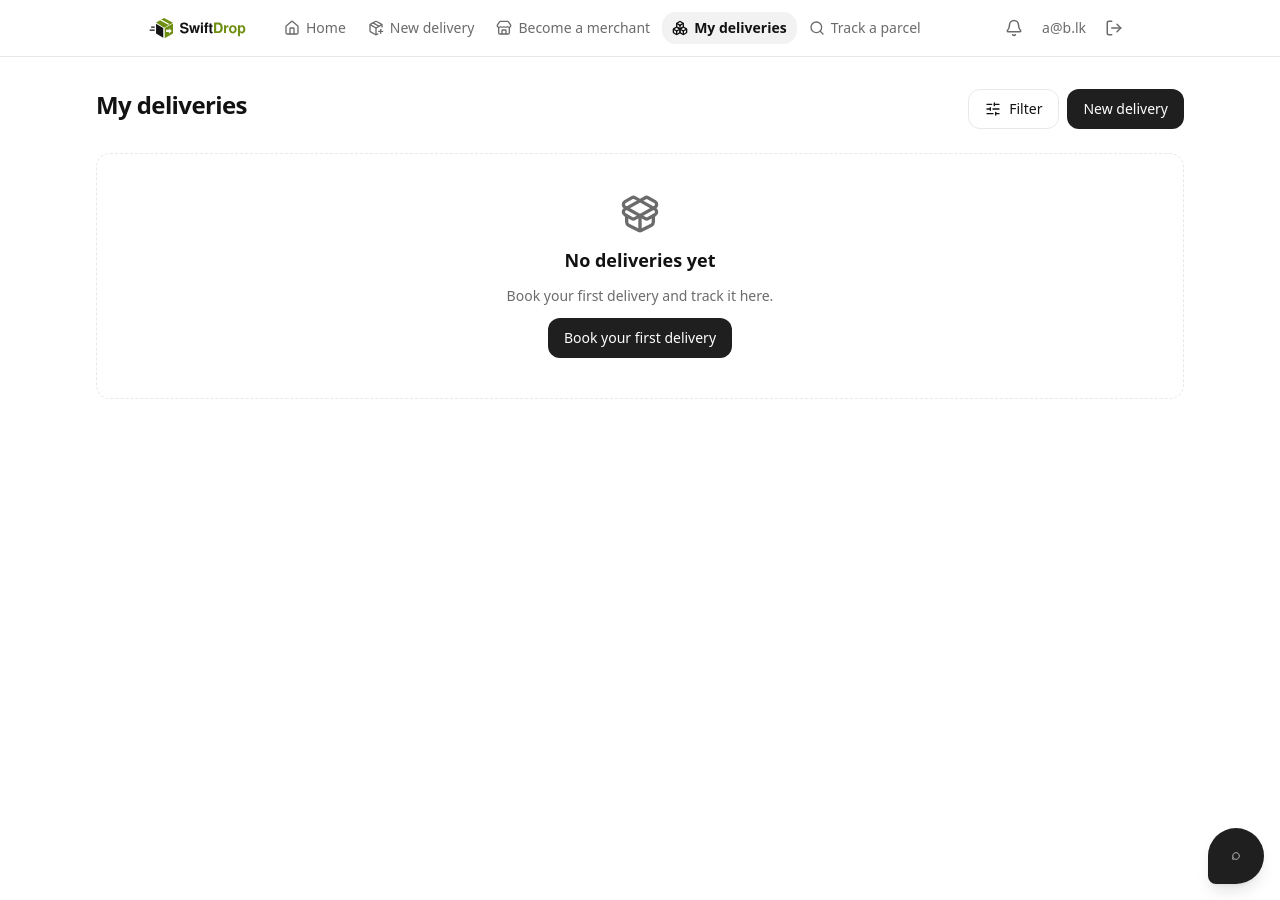
Test case: assistant widget › tells the user about the hourly limit on 429
The image size is (1280, 900).
Click the button named "Open assistant": (1236, 856) [1208,828,1264,884]
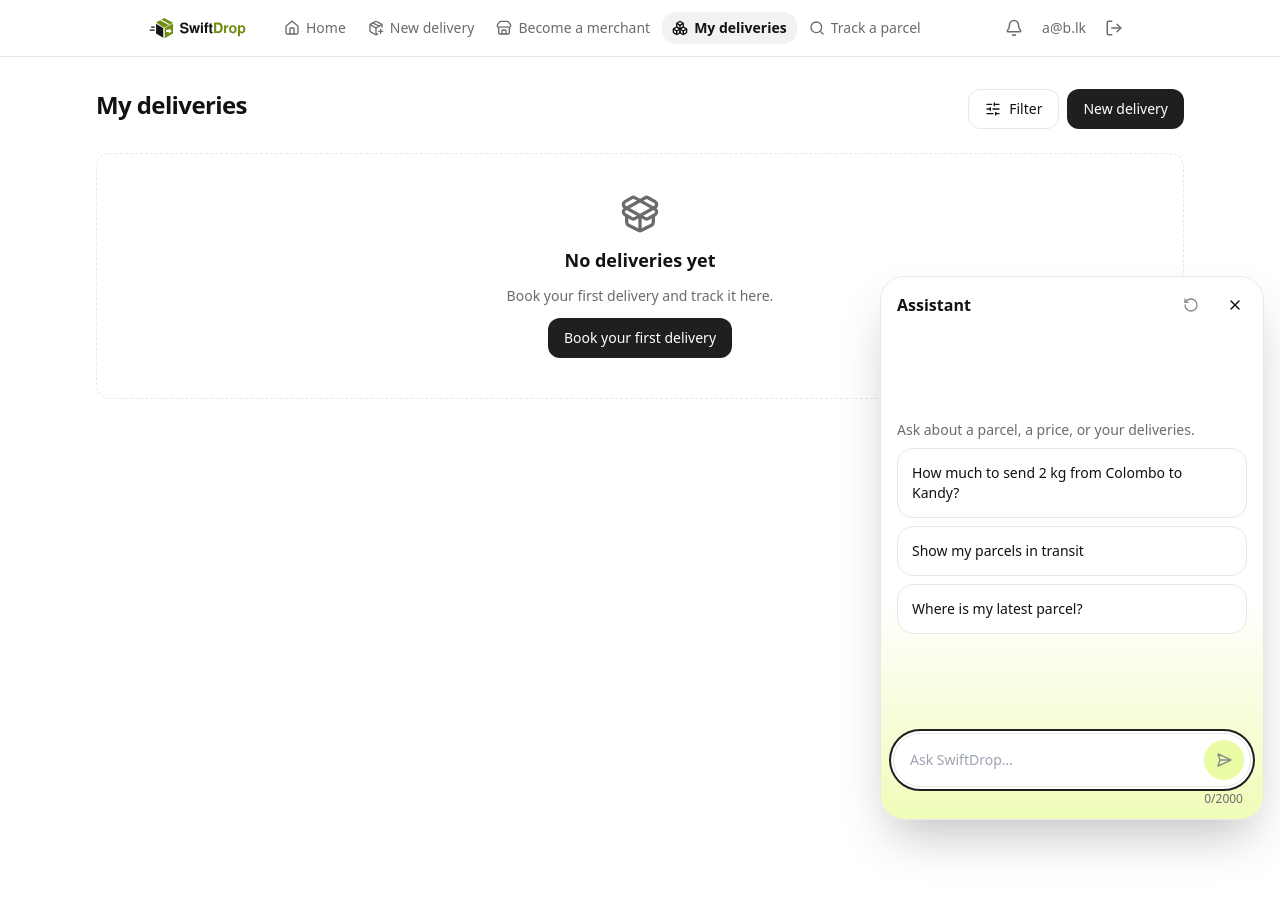
In the text box named "Message": (1053, 760) [910,740,1196,780], type "hi"
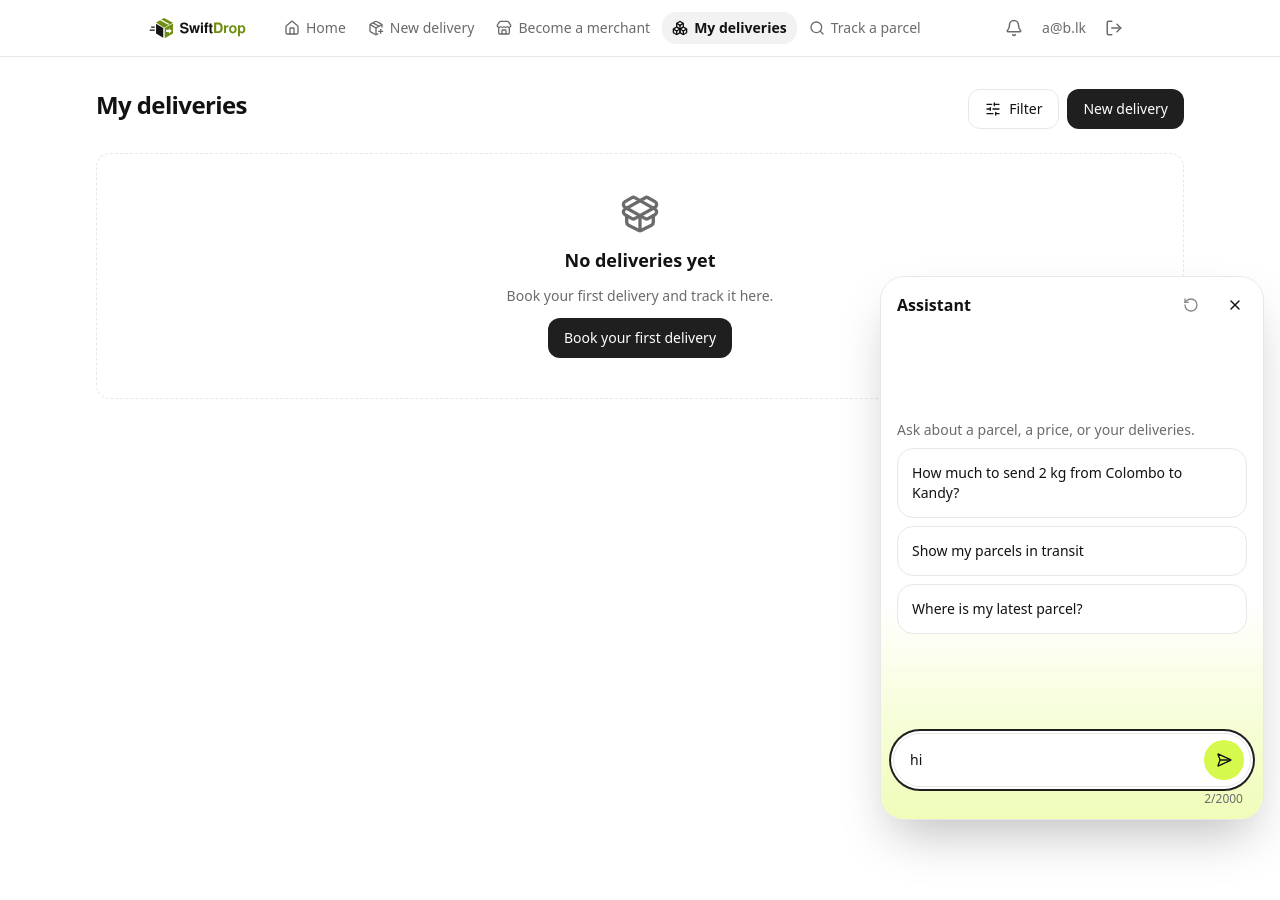
Click the button named "Send": (1224, 760) [1204,740,1244,780]
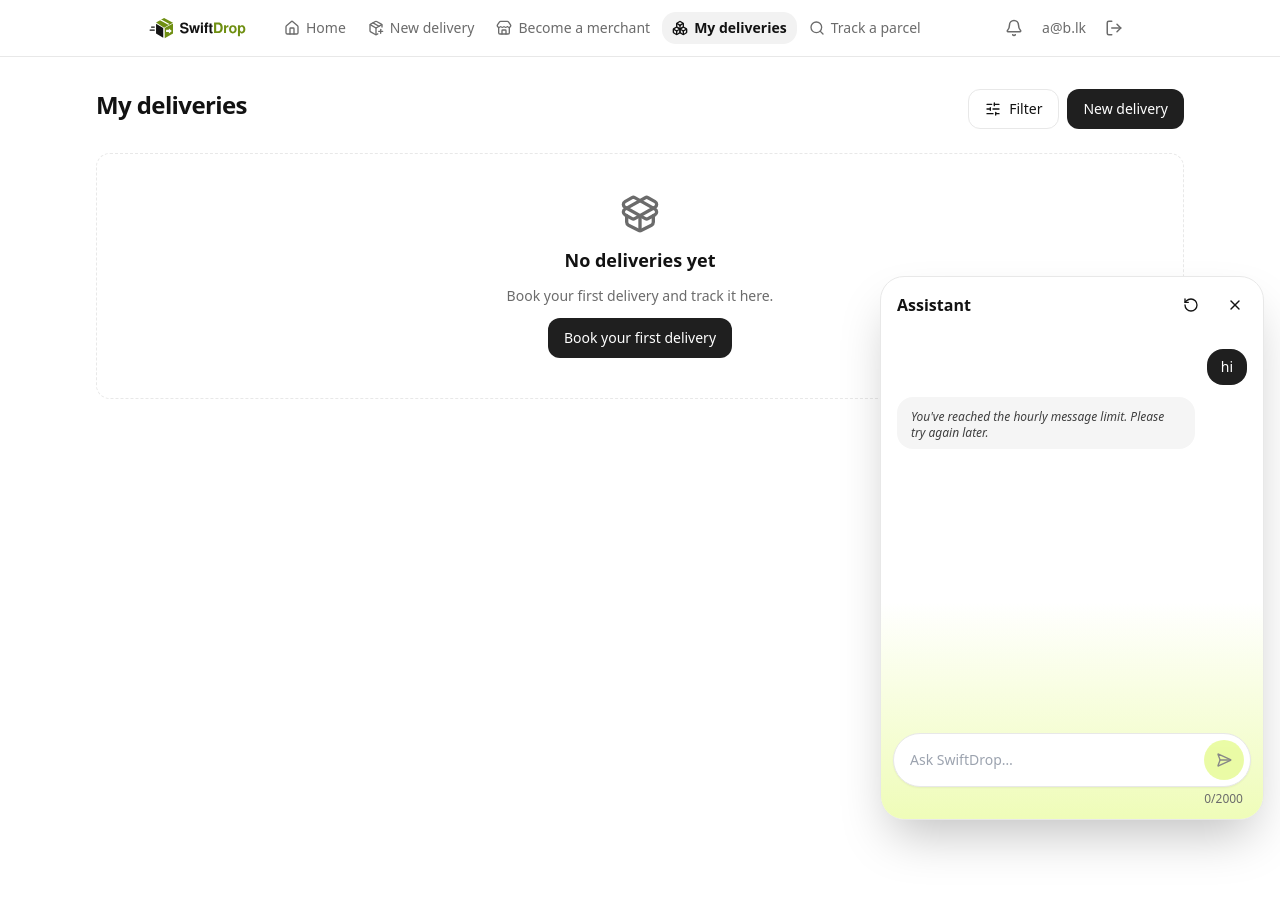
Now the text "hourly message limit" is shown, box [911,408,1164,441]
